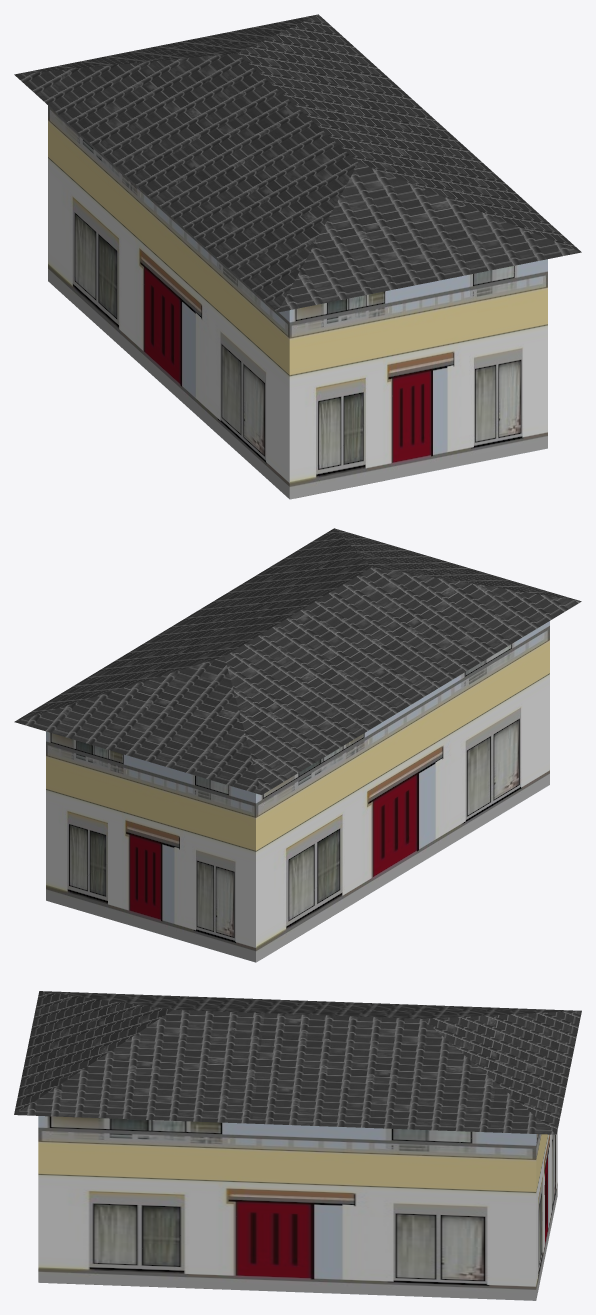
3 views of the same model, one above another, from view 1: azimuth 30°, elevation 25°; view 2: azimuth 150°, elevation 25°; view 3: azimuth 270°, elevation 25° (orthographic). The views are drawn at different scales.
Parts seen in each view (by area): view 1: CityEngineMaterial_15_m, CityEngineMaterial_16_m; view 2: CityEngineMaterial_15_m, CityEngineMaterial_16_m; view 3: CityEngineMaterial_15_m, CityEngineMaterial_16_m.
Boxes of the visible parts, x1,y1,x2,y2 form: CityEngineMaterial_15_m: (48, 105, 547, 499); CityEngineMaterial_16_m: (14, 14, 581, 312); CityEngineMaterial_15_m: (46, 621, 549, 962); CityEngineMaterial_16_m: (14, 528, 581, 794); CityEngineMaterial_15_m: (38, 1116, 557, 1300); CityEngineMaterial_16_m: (14, 991, 581, 1134).
Bounding box in the file's own units: 14.24 × 10.39 × 23.77.
